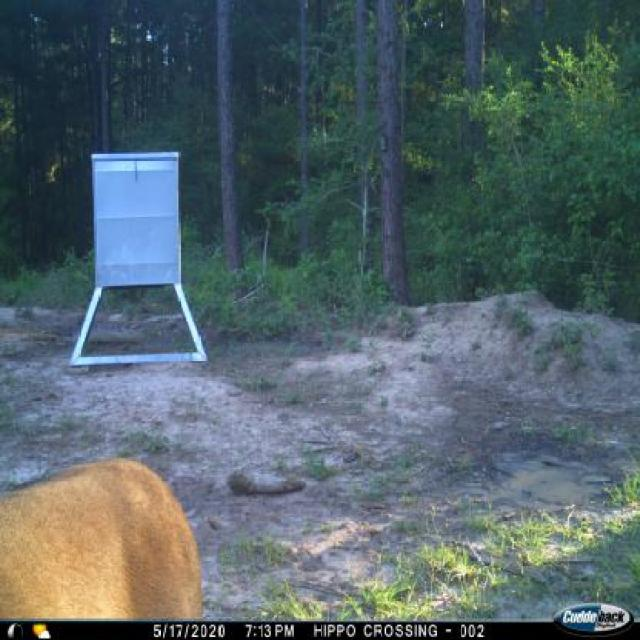Deer: (0, 452, 206, 618)
